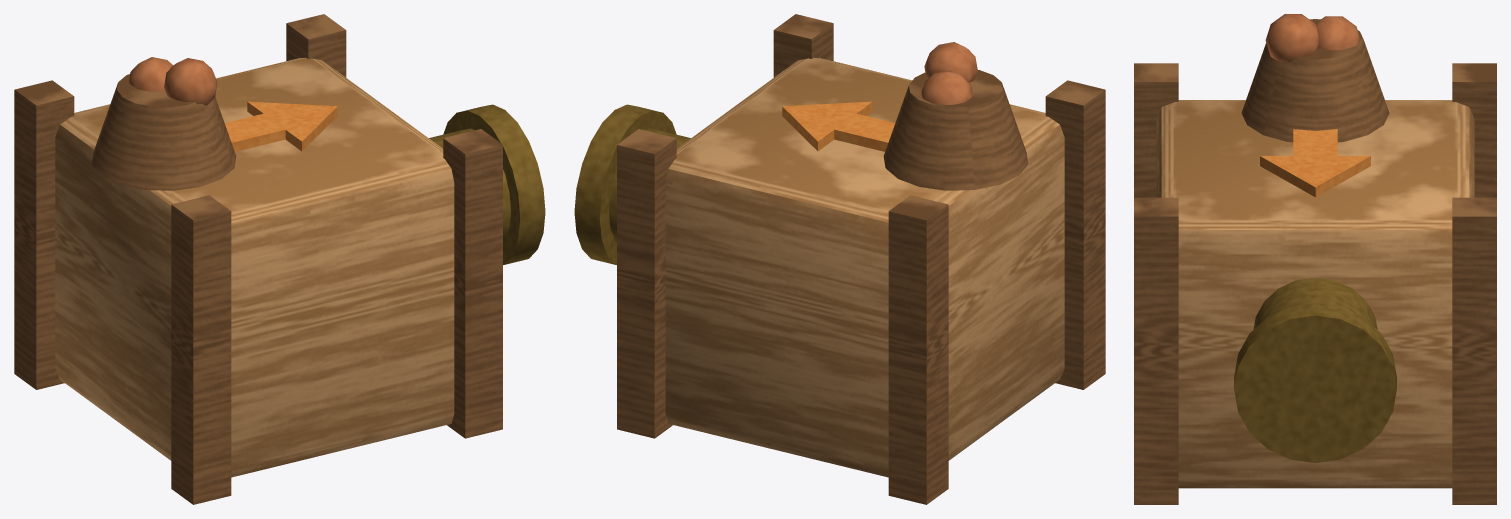
The model's file is launcher.glb.
The picture shows the model from 3 angles, left to right: view 1: azimuth 30°, elevation 25°; view 2: azimuth 150°, elevation 25°; view 3: azimuth 270°, elevation 25°; orthographic projection.
Visible parts, largest first — view 1: Launcher; view 2: Launcher; view 3: Launcher.
Boxes of the visible parts, x1,y1,x2,y2 form: Launcher: [14, 14, 545, 504]; Launcher: [574, 14, 1105, 504]; Launcher: [1134, 14, 1496, 504].
Bounding box in the file's own units: 1.28 × 1.11 × 0.98.
5 materials, 5 textured.
